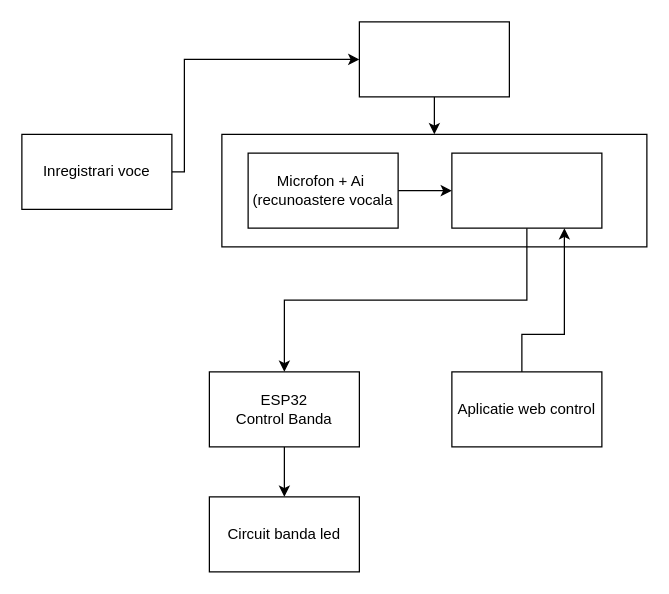
Some shapes in this 669 by 594 pixel diagram are drawn without their labels. Each missing label, with the centre of its shape:
Antrenare model: the point at 433,59
Server Web Trimitere comanda ESP32: the point at 526,190
